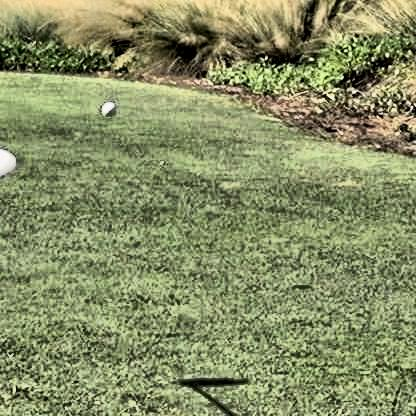golfball: (99, 98, 114, 114)
